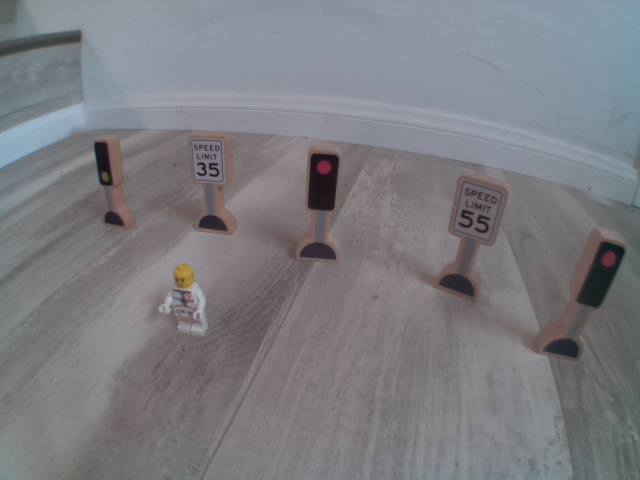Green Traffic Light: (86, 132, 127, 191)
Red Traffic Light: (566, 214, 626, 324), (303, 144, 345, 221)
Speed Limit 35: (181, 130, 232, 190)
Speed Limit 55: (447, 170, 505, 249)
person: (150, 249, 219, 342)
